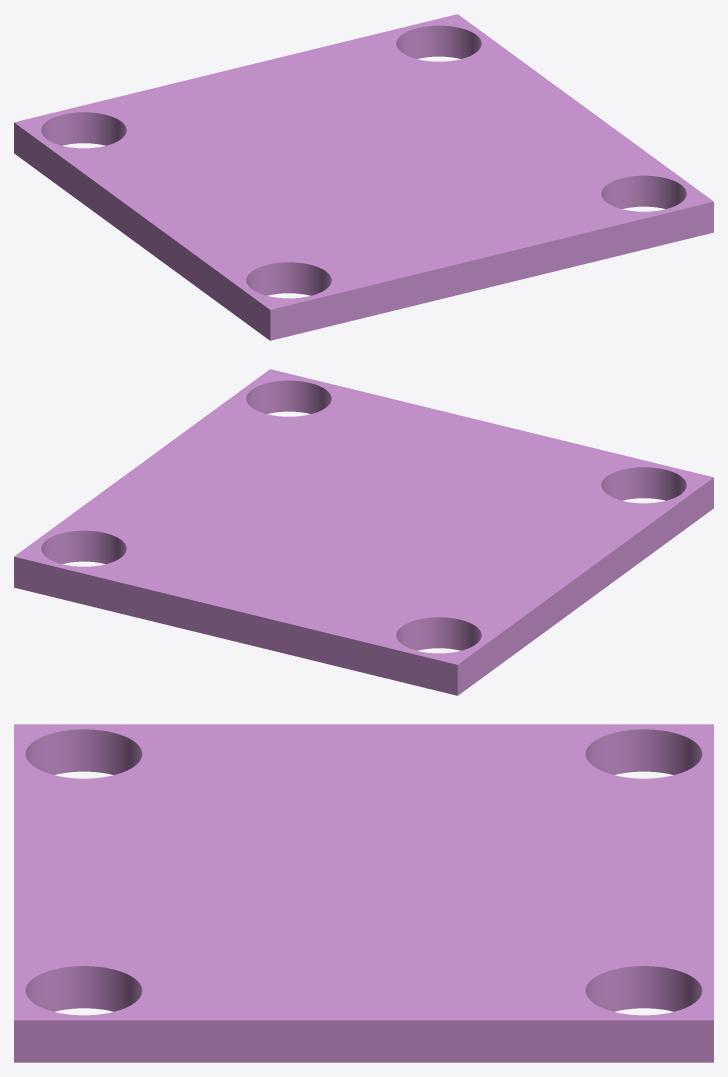
Rendered from SwerveBase.gltf.
3 views of the same model, one above another, from view 1: azimuth 30°, elevation 25°; view 2: azimuth 150°, elevation 25°; view 3: azimuth 270°, elevation 25° (orthographic). The views are drawn at different scales.
Visible parts, largest first — view 1: base; view 2: base; view 3: base.
Boxes of the visible parts, x1=… form: base: x1=14, y1=14, x2=713, y2=340; base: x1=14, y1=369, x2=713, y2=695; base: x1=14, y1=724, x2=713, y2=1062.
Size of the model in its own units: 0.762 by 0.0508 by 0.762.
